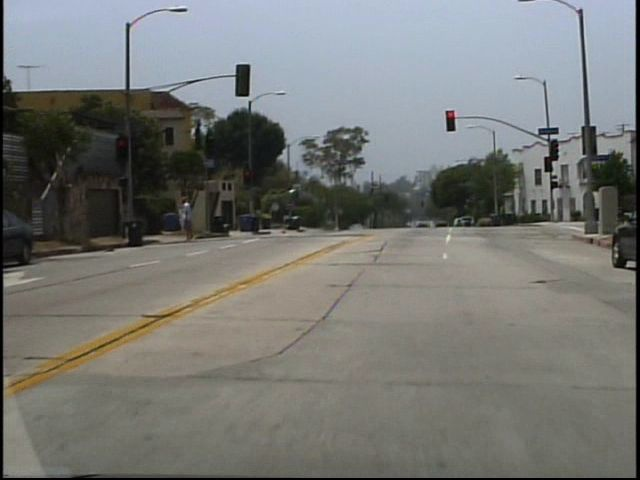person: (184, 196, 202, 242), (183, 203, 193, 239)
